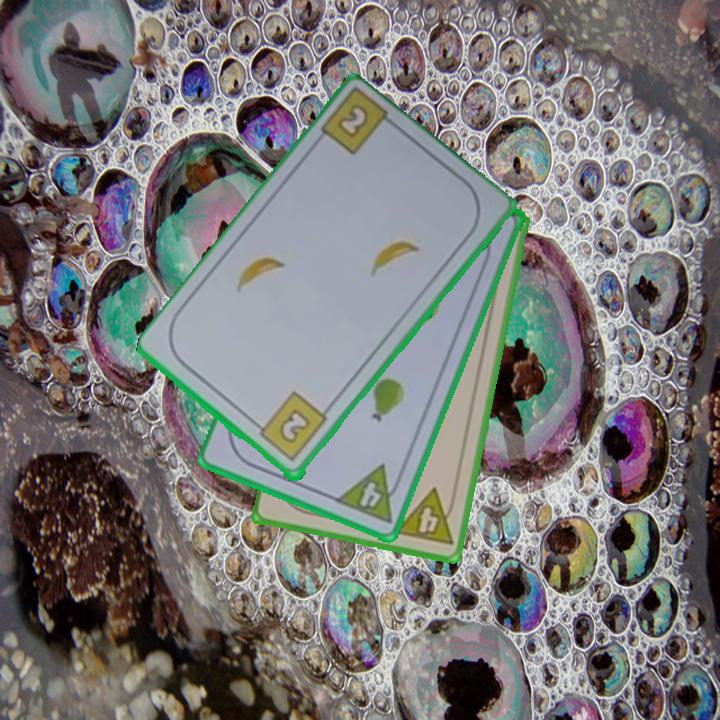2b: (250, 389, 330, 465), (333, 101, 372, 142)
4p: (332, 461, 407, 527), (391, 485, 460, 549)
